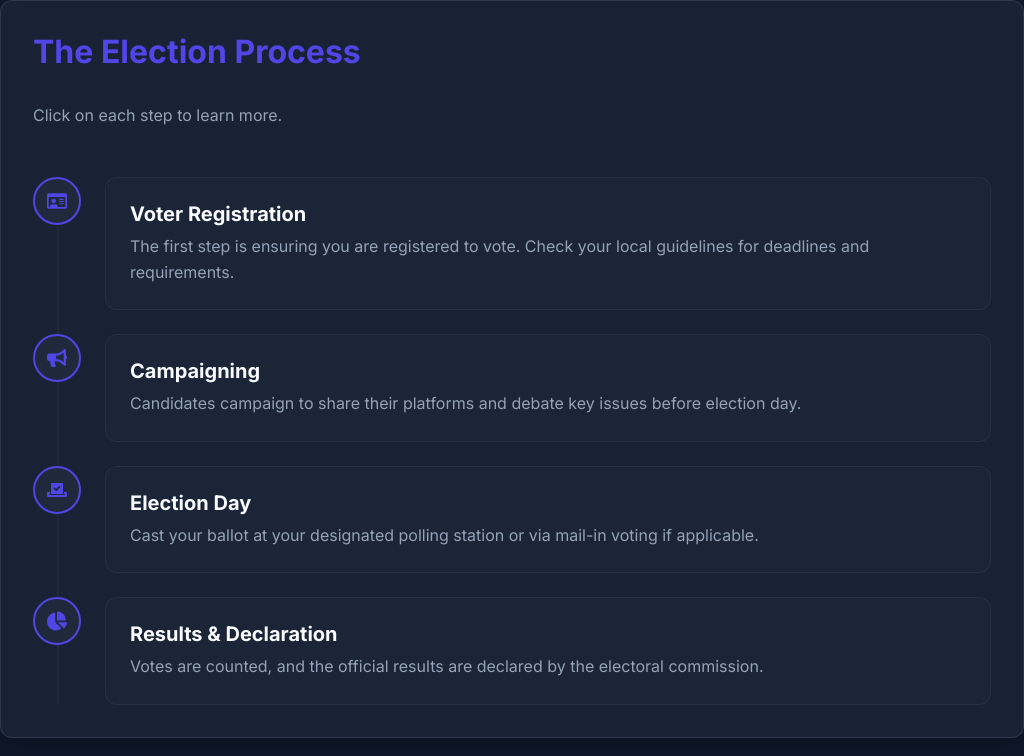
Test case: ElectionTimeline Component › toggles details on click
// Click the step
Click the button "Voter Registration" at {"x": 512, "y": 244}, box x1=33 y1=177 x2=991 y2=310
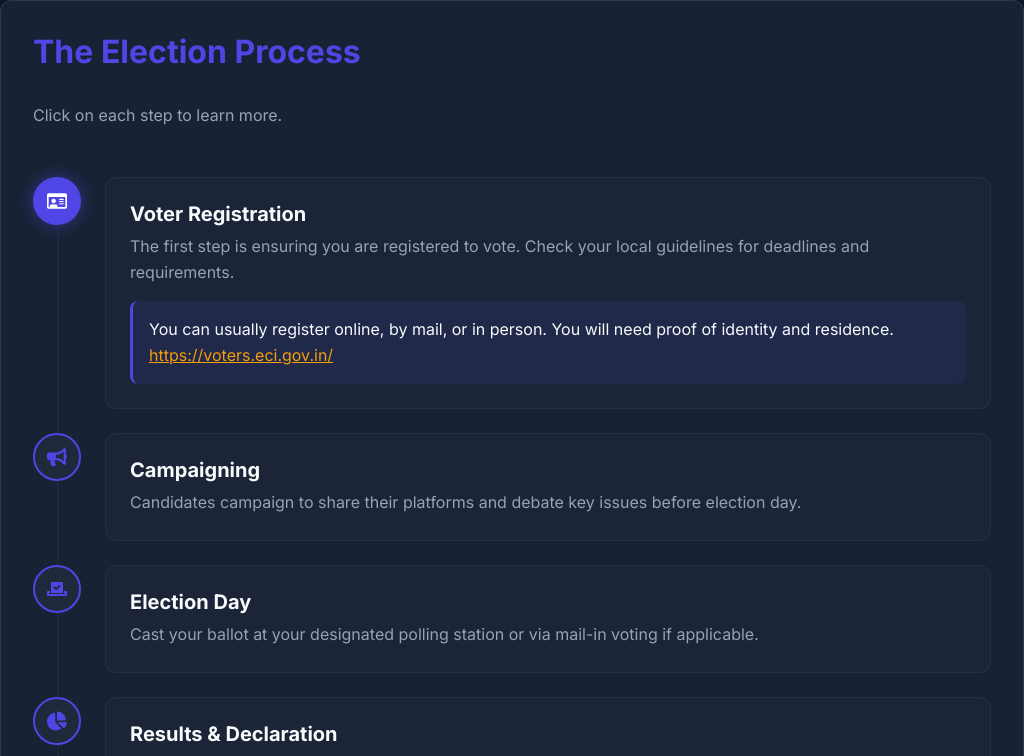
Now the button "Voter Registration" is expanded
// Click again to close
Click the button "Voter Registration" at {"x": 90, "y": 293}, box x1=33 y1=177 x2=991 y2=409
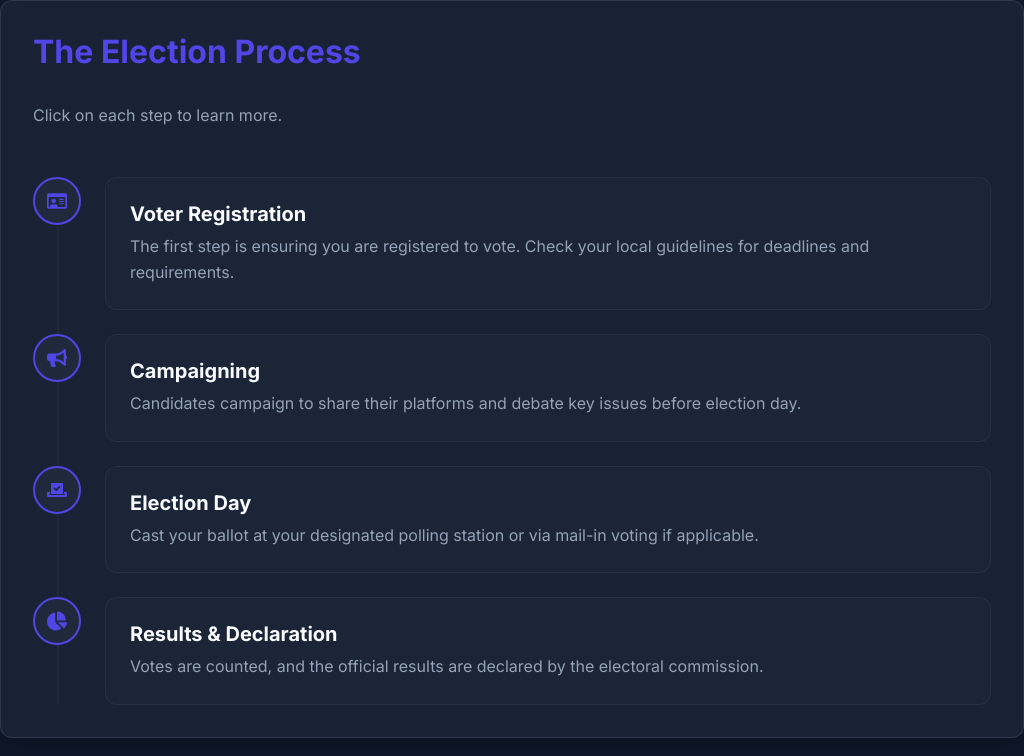
Now the button "Voter Registration" is collapsed, box x1=33 y1=177 x2=991 y2=310
